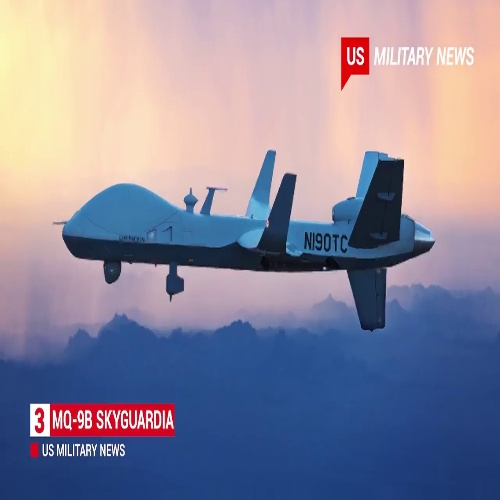uav: (53, 146, 437, 334)
